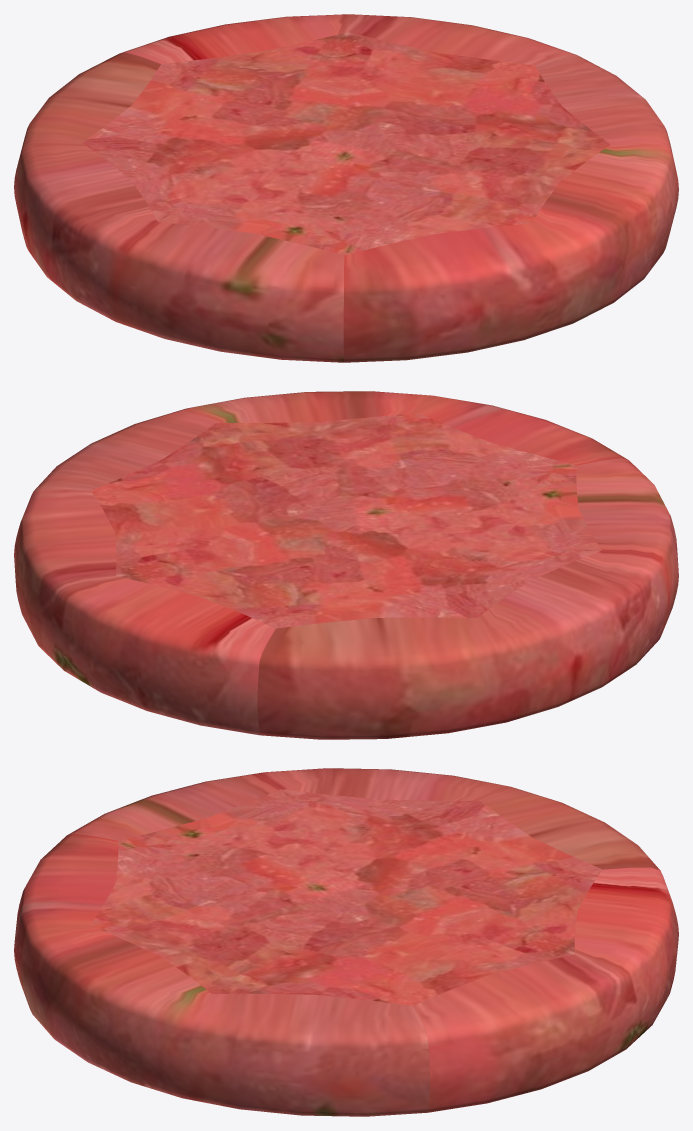
Rendered from raw-meat-pie.glb.
The picture shows the model from 3 angles, top to bottom: view 1: azimuth 30°, elevation 25°; view 2: azimuth 150°, elevation 25°; view 3: azimuth 270°, elevation 25°; orthographic projection.
Size of the model in its own units: 0.8902 by 0.1392 by 0.8902.
1 material, 1 textured.
